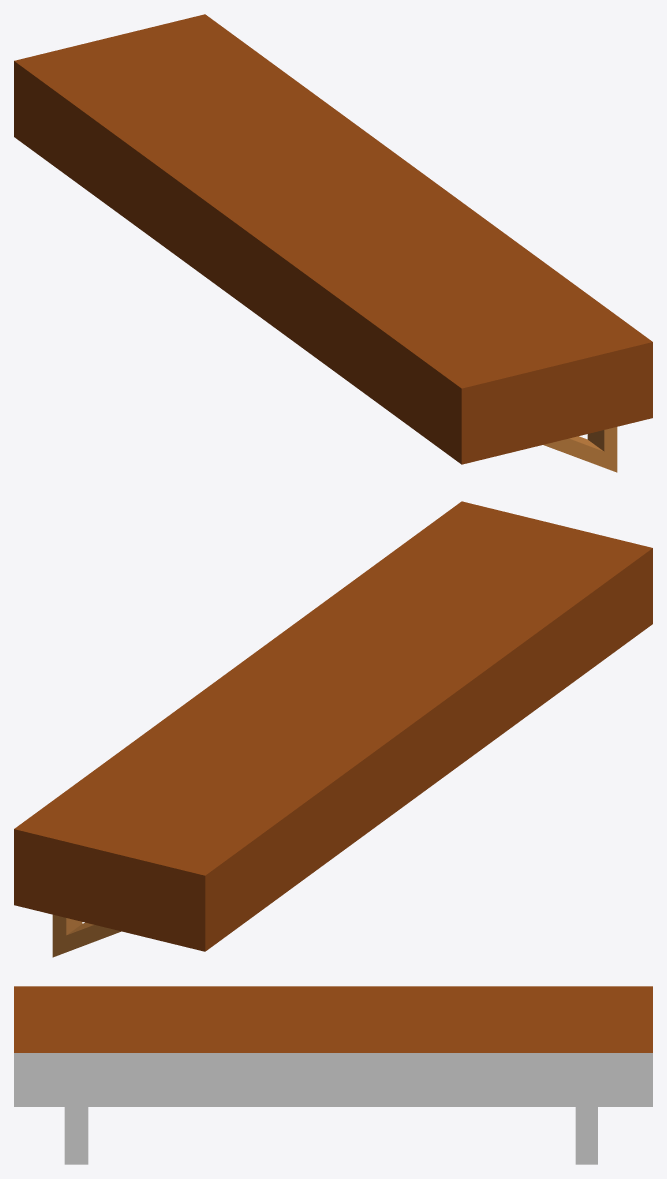
Rendered from Shelf.dae.
3 views of the same model, one above another, from view 1: azimuth 30°, elevation 25°; view 2: azimuth 150°, elevation 25°; view 3: azimuth 270°, elevation 25° (orthographic). The views are drawn at different scales.
Visible parts, largest first — view 1: Shelf (×2); view 2: Shelf (×2); view 3: Shelf (×2).
Boxes of the visible parts, x1,y1,x2,y2 form: Shelf (×2): [14, 14, 652, 472]; Shelf (×2): [14, 501, 652, 957]; Shelf (×2): [14, 986, 652, 1164].
Size of the model in its own units: 12.5 by 50.69 by 9.79.
